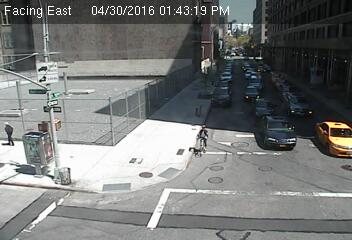neg: (190, 121, 216, 156), (166, 58, 186, 84), (132, 86, 151, 112), (164, 120, 177, 137)
pos: (1, 120, 20, 146)
